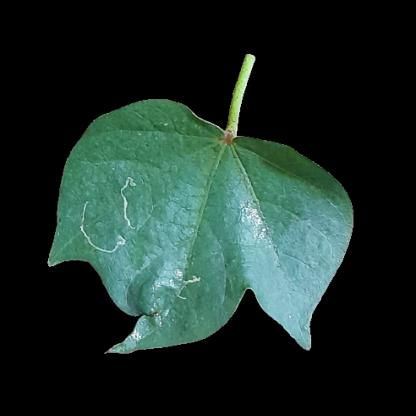healthy: (131, 133, 230, 307), (230, 152, 328, 276)
